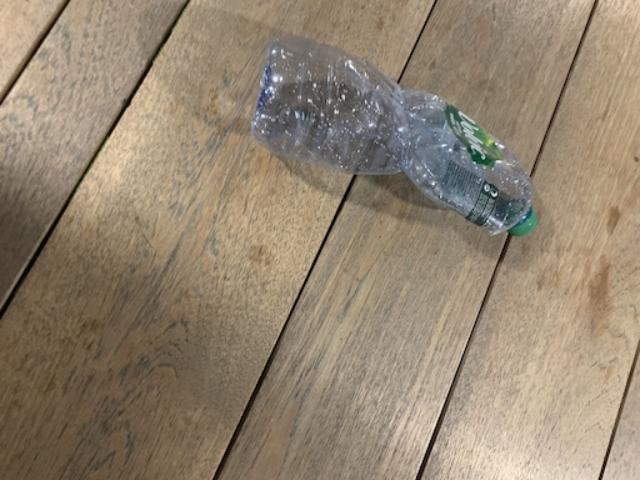plastic: (250, 35, 534, 232)
